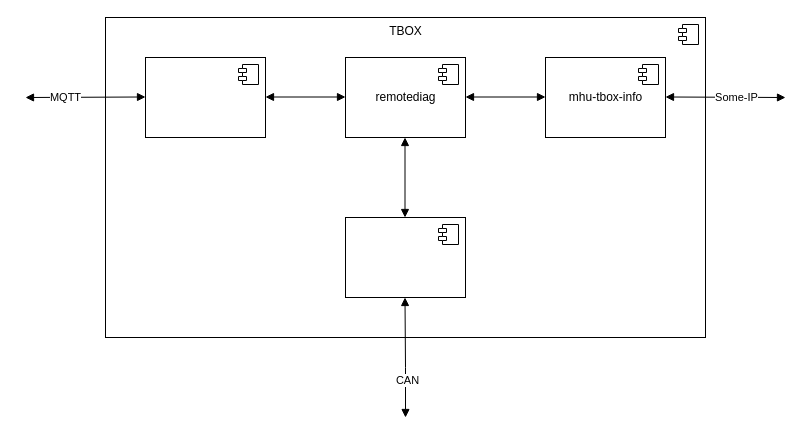
Image size: 812x444. Some labels were removed from this diagram. The shapes that lost their labels are listed below. From the top down, each one's centre as x and y in pixels, then its label:
point (205, 97): connected-car
point (405, 257): vipc
